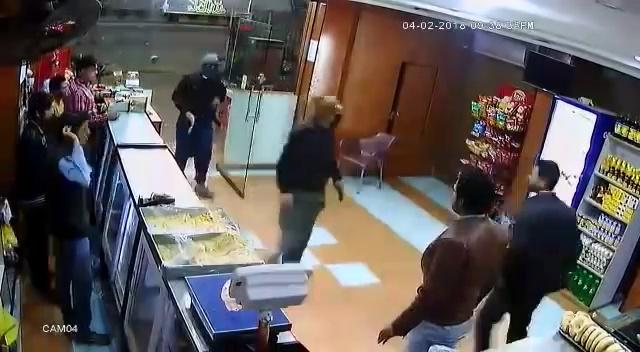weapon: (330, 180, 348, 203), (183, 113, 194, 135)
